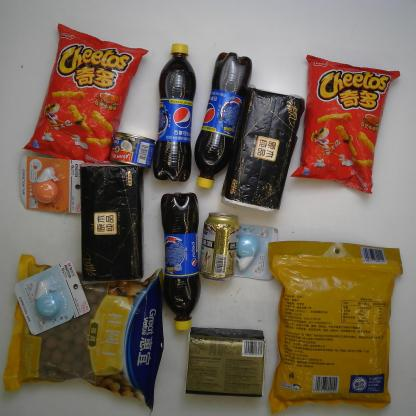Alcohol: (199, 212, 239, 281)
Canned Food: (109, 131, 155, 170)
Dried Food: (3, 254, 164, 414), (268, 241, 403, 416)
Drink: (194, 52, 252, 188), (152, 43, 196, 182), (160, 192, 200, 332)
Puffed Food: (23, 22, 148, 167), (290, 53, 400, 194)
Stationery: (13, 260, 90, 336), (18, 154, 85, 216), (217, 222, 279, 280)
Tissue: (220, 86, 304, 212), (77, 163, 145, 284), (184, 327, 266, 397)
